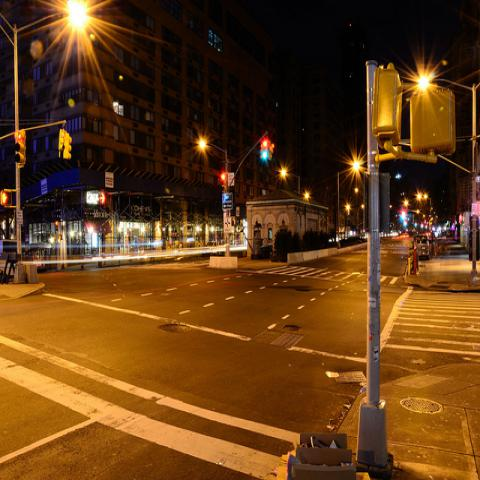car: (412, 233, 430, 260), (390, 230, 399, 236)
